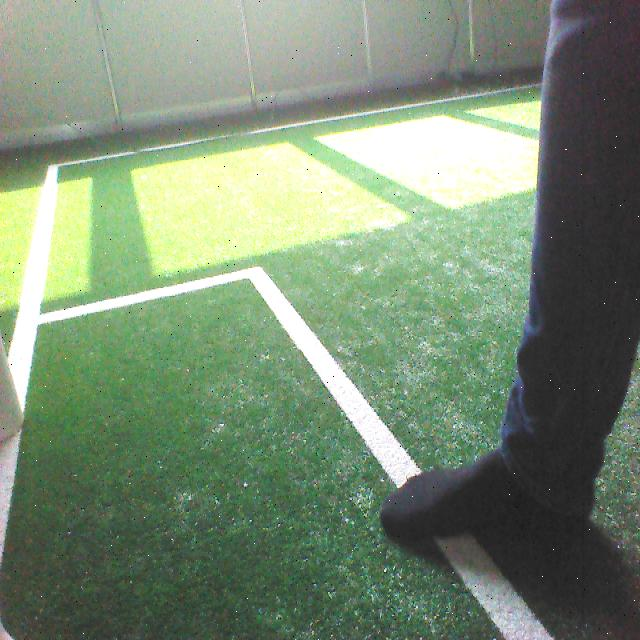goalpost: (1, 340, 26, 443)
